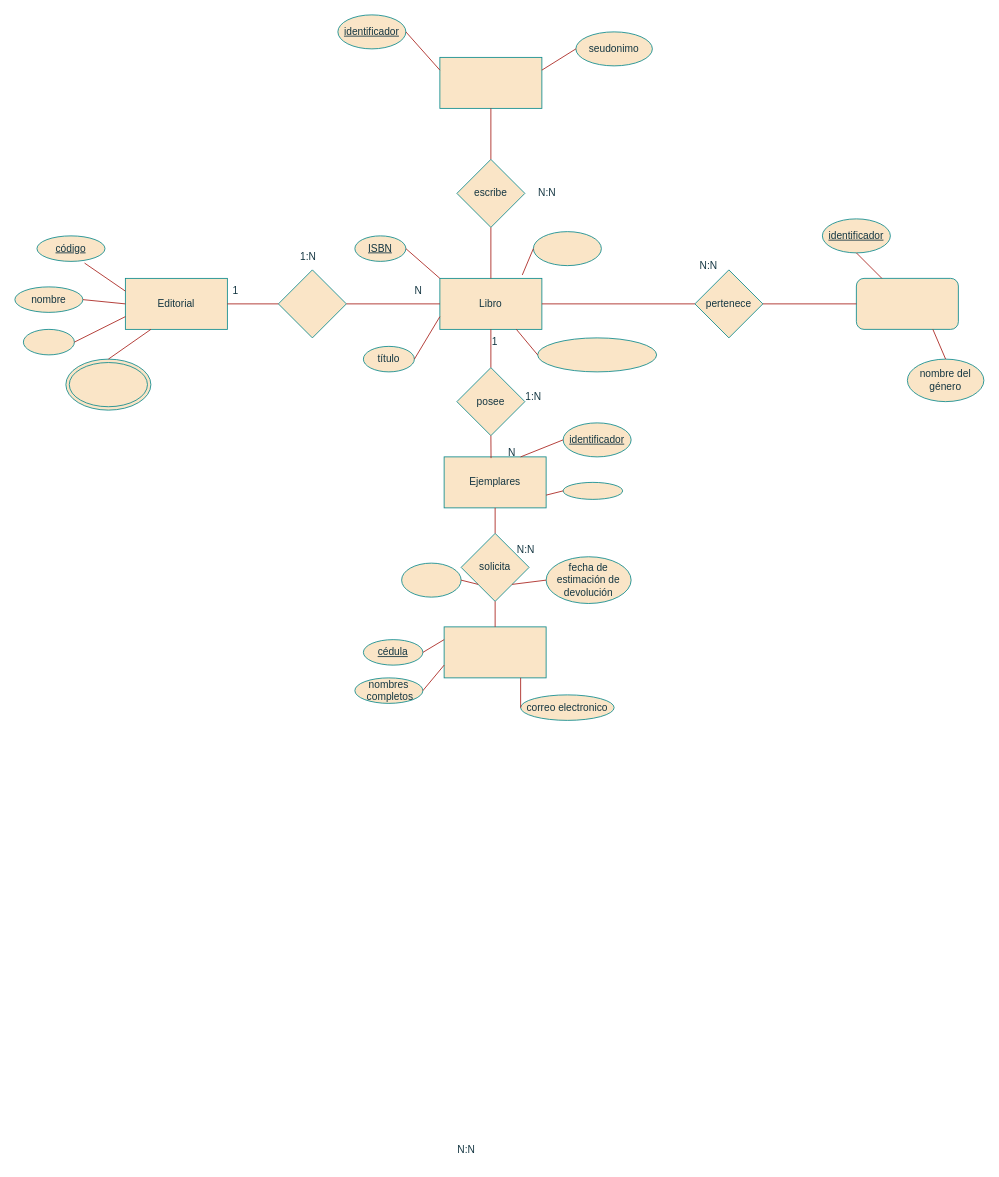
The diagram is 999 pixels wide and 1177 high, and some of its shapes have lost their labels. The shapes that lost their labels are listed below. From the top down, each one's centre as x and y in pixels, then its label:
At pixel 490 82: "Autor".
At pixel 567 248: "descripción".
At pixel 312 303: "impreso".
At pixel 907 303: "Género Literario".
At pixel 48 342: "país".
At pixel 597 354: "año de publicación".
At pixel 108 384: "números de telefonos".
At pixel 592 490: "estado".
At pixel 431 579: "fecha".
At pixel 494 652: "Lector".
